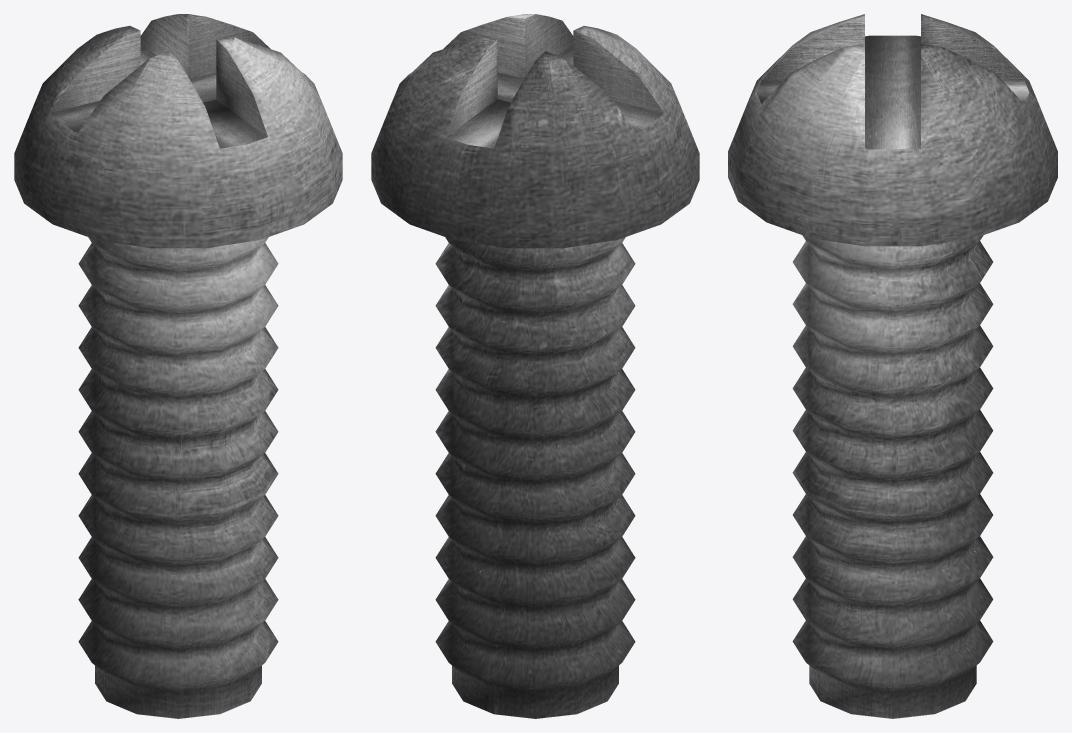
The model's file is Screw_10.FBX.
3 renders of one model, left to right at view 1: azimuth 30°, elevation 25°; view 2: azimuth 150°, elevation 25°; view 3: azimuth 270°, elevation 25°, orthographic.
Parts seen in each view (by area): view 1: HightPolygon; view 2: HightPolygon; view 3: HightPolygon.
Part boxes in pixels (x1=…): HightPolygon: x1=14, y1=14, x2=342, y2=718; HightPolygon: x1=371, y1=14, x2=699, y2=718; HightPolygon: x1=728, y1=14, x2=1057, y2=718.
Size of the model in its own units: 23.28 by 51.5 by 23.64.
1 material, 1 textured.
